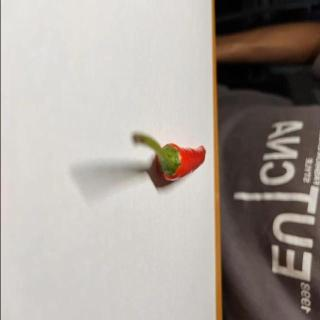Cabai Merah: (131, 134, 207, 182)
